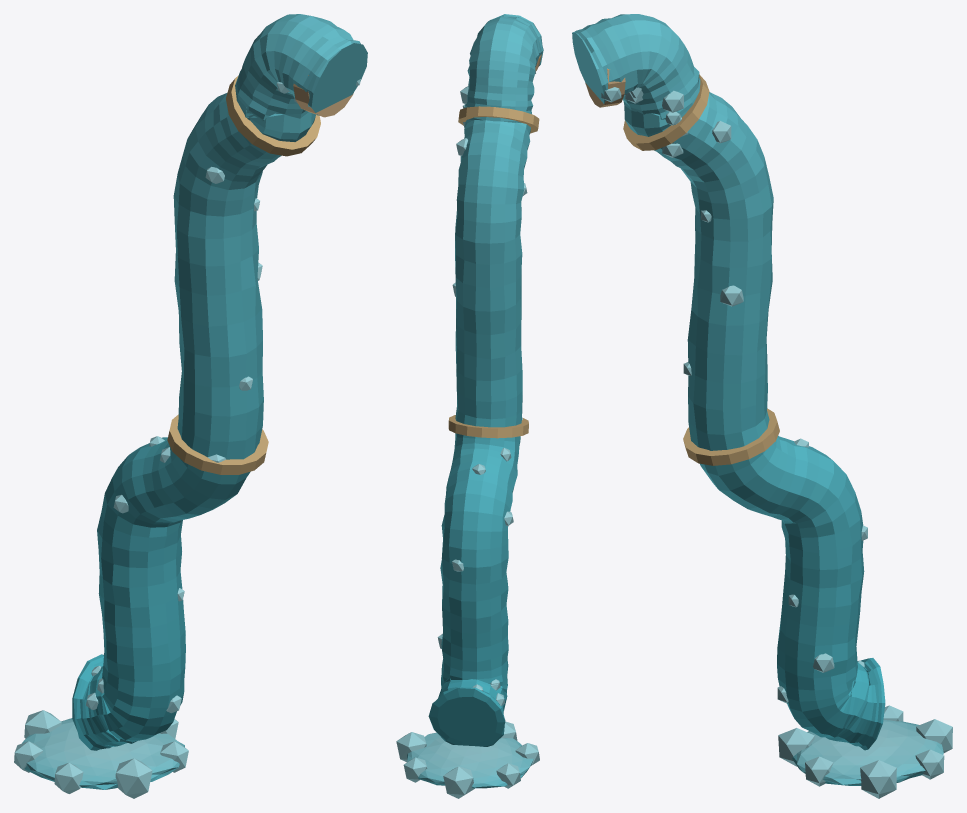
File: goo_drop_tube_goo_3@beach.fbx
3 views of the same model, side by side, from view 1: azimuth 30°, elevation 25°; view 2: azimuth 150°, elevation 25°; view 3: azimuth 270°, elevation 25° (orthographic). The views are drawn at different scales.
Parts seen in each view (by area): view 1: goo_drop_tube_goo_3; view 2: goo_drop_tube_goo_3; view 3: goo_drop_tube_goo_3.
Boxes of the visible parts, left/top/right/bottom form: goo_drop_tube_goo_3: left=14, top=14, right=367, bottom=798; goo_drop_tube_goo_3: left=396, top=14, right=543, bottom=798; goo_drop_tube_goo_3: left=572, top=14, right=952, bottom=798.
Bounding box in the file's own units: 9.68 × 37.69 × 16.49.
